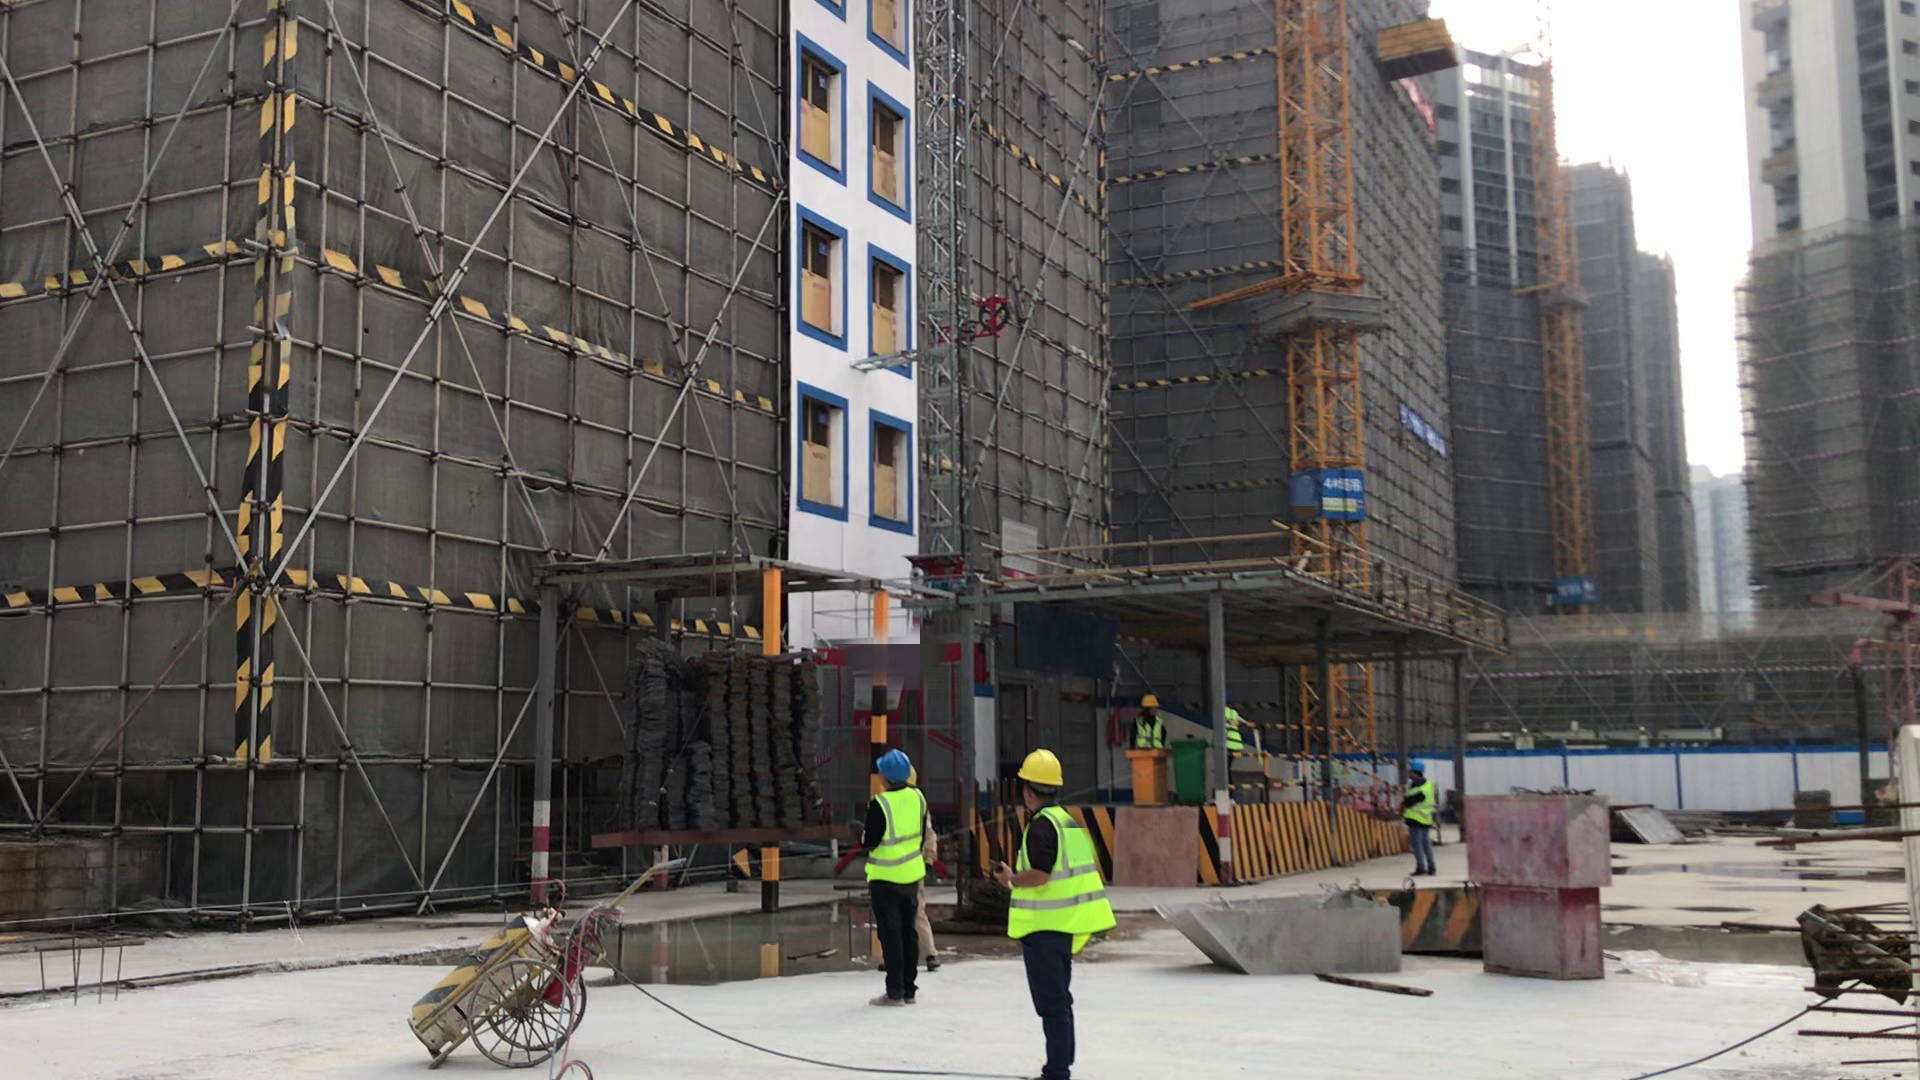handcart: (394, 882, 704, 1059)
helmet: (1018, 744, 1071, 789), (872, 747, 919, 780), (1136, 689, 1163, 717), (1405, 749, 1431, 777)
hopper: (1141, 890, 1420, 977)
person: (1007, 735, 1113, 1071), (862, 728, 937, 1016), (1400, 753, 1439, 884), (1133, 694, 1165, 743), (1226, 702, 1244, 778)
vest: (1015, 814, 1102, 934), (871, 787, 919, 881), (1401, 782, 1436, 823), (1227, 710, 1245, 747), (1140, 723, 1163, 743)
